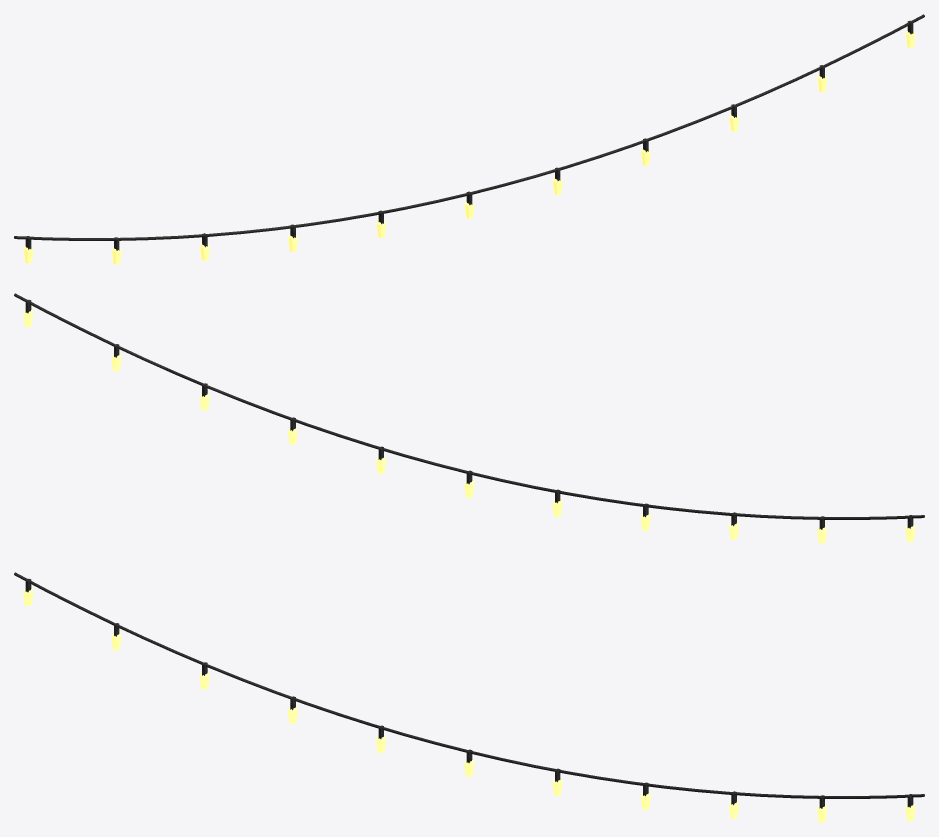
The model's file is string_lights_long.glb.
3 renders of one model, top to bottom at view 1: azimuth 30°, elevation 25°; view 2: azimuth 150°, elevation 25°; view 3: azimuth 330°, elevation 25°, orthographic.
Visible parts, largest first — view 1: string_lights_long; view 2: string_lights_long; view 3: string_lights_long.
Part boxes in pixels (x1,y1,x2,y2): string_lights_long: (14,14,924,264); string_lights_long: (14,293,924,543); string_lights_long: (14,572,924,822).
Size of the model in its own units: 6.65 by 0.645 by 0.0779.
2 materials, 2 textured.
